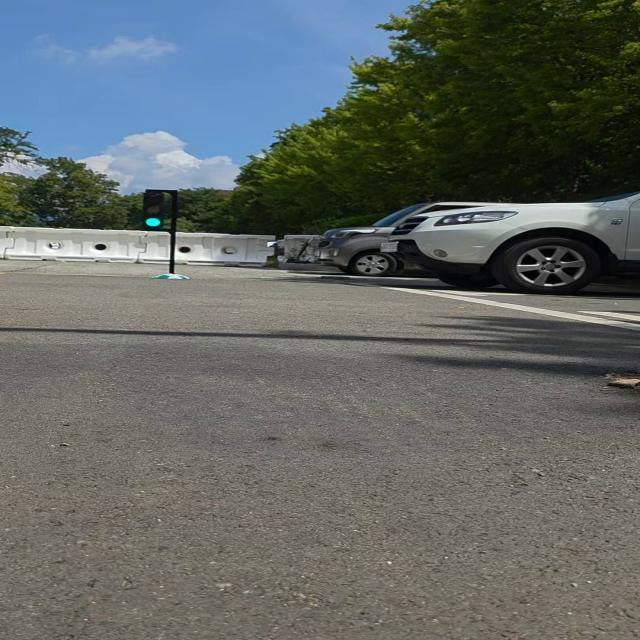green: (135, 190, 176, 232)
